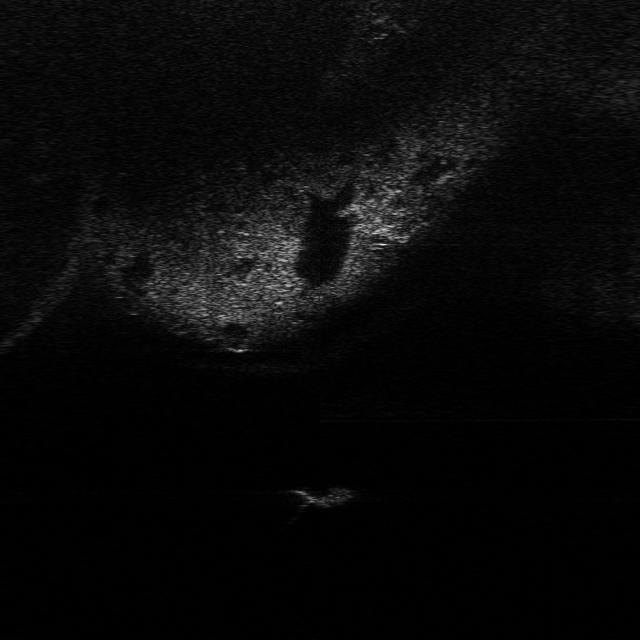cube: (283, 484, 353, 511)
